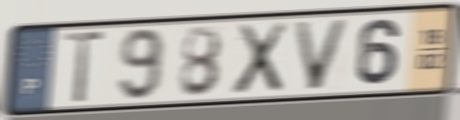6: (356, 17, 402, 88)
8: (177, 25, 223, 99)
9: (117, 26, 167, 103)
T: (60, 28, 109, 106)
V: (290, 18, 353, 94)
X: (229, 20, 290, 98)
